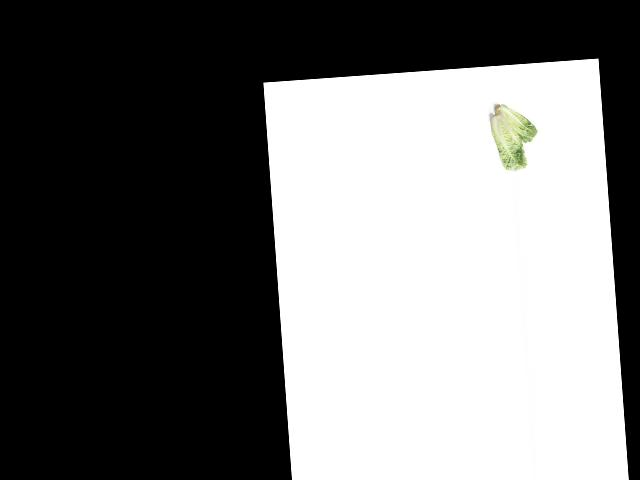lettuce: (492, 98, 538, 145)
